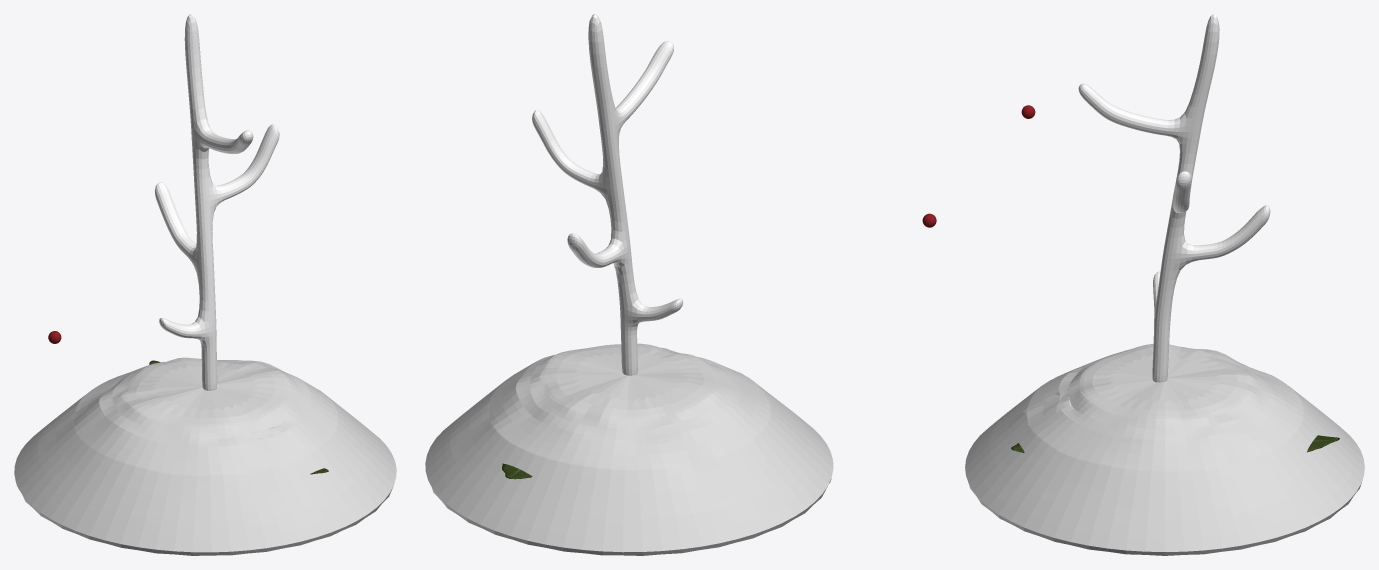
File: planta.gltf
3 views of the same model, side by side, from view 1: azimuth 30°, elevation 25°; view 2: azimuth 150°, elevation 25°; view 3: azimuth 270°, elevation 25° (orthographic). The views are drawn at different scales.
Parts seen in each view (by area): view 1: Círculo, Cubo; view 2: Círculo, Cubo; view 3: Círculo, Cubo.
Part boxes in pixels (<box>): Círculo: <box>14,357,396,555</box>; Cubo: <box>155,14,279,390</box>; Círculo: <box>425,343,833,555</box>; Cubo: <box>532,14,683,375</box>; Círculo: <box>965,343,1364,555</box>; Cubo: <box>1078,14,1270,382</box>.
Size of the model in its own units: 2.27 by 2.57 by 1.94.
7 materials, 4 textured.
